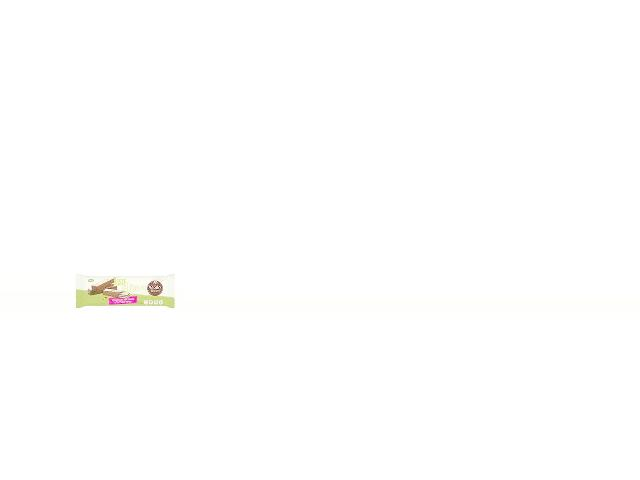chocolate: (73, 271, 174, 312)
